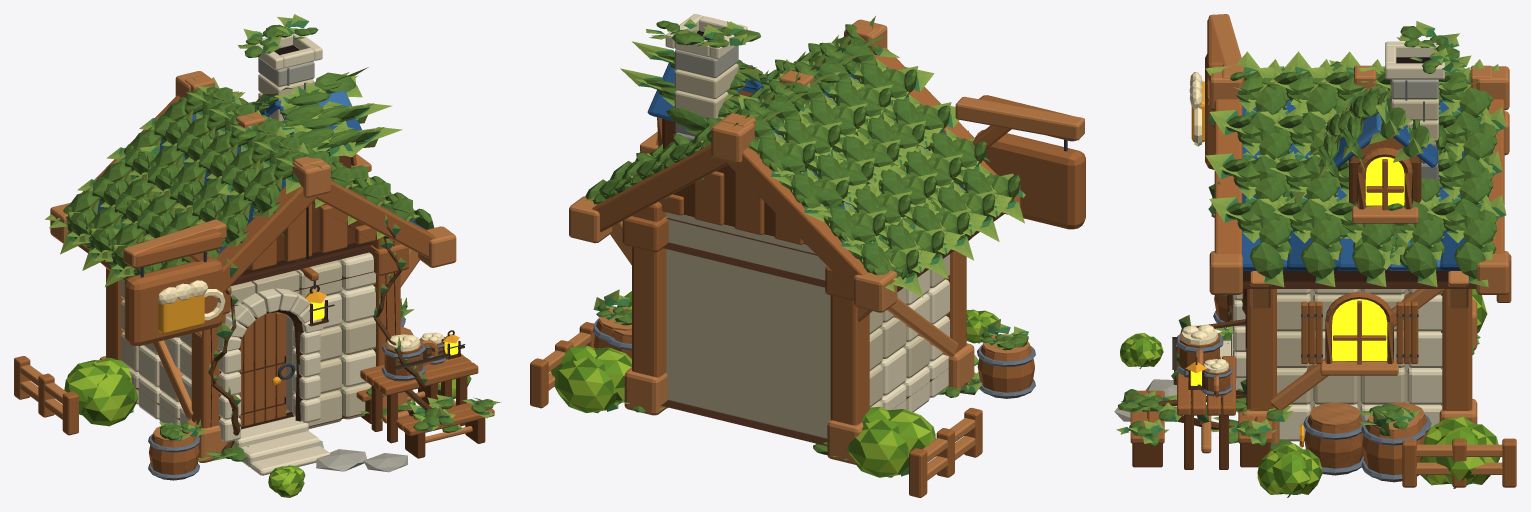
File: tavern.glb
3 renders of one model, left to right at view 1: azimuth 30°, elevation 25°; view 2: azimuth 150°, elevation 25°; view 3: azimuth 270°, elevation 25°, orthographic. The views are drawn at different scales.
Parts seen in each view (by area): view 1: Runtime surface 010, Runtime surface 006, Runtime surface 000, Runtime surface 005, Runtime surface 017, Runtime surface 009, Runtime surface 025, Runtime surface 012, Runtime surface 011, Runtime surface 037, Runtime surface 015, Runtime surface 032 (+12 smaller); view 2: Runtime surface 010, Runtime surface 017, Runtime surface 006, Runtime surface 005, Runtime surface 009, Runtime surface 025, Runtime surface 000, Runtime surface 032, Runtime surface 031, Runtime surface 012, Runtime surface 038, Runtime surface 008 (+7 smaller); view 3: Runtime surface 010, Runtime surface 006, Runtime surface 005, Runtime surface 009, Runtime surface 000, Runtime surface 017, Runtime surface 021, Runtime surface 011, Runtime surface 012, Runtime surface 003, Runtime surface 032, Runtime surface 008 (+17 smaller).
Part boxes in pixels (x1,y1,x2,y2): Runtime surface 010: (63,72,495,440); Runtime surface 006: (14,95,494,480); Runtime surface 000: (138,33,375,475); Runtime surface 005: (20,71,472,462); Runtime surface 017: (120,74,375,428); Runtime surface 009: (45,67,501,490); Runtime surface 025: (124,258,222,346); Runtime surface 012: (78,157,460,429); Runtime surface 011: (247,155,485,458); Runtime surface 037: (105,14,449,461); Runtime surface 015: (258,58,407,472); Runtime surface 032: (65,360,455,497); Runtime surface 010: (585,24,1028,350); Runtime surface 017: (666,63,949,438); Runtime surface 006: (530,47,1034,497); Runtime surface 005: (543,19,1084,480); Runtime surface 009: (584,16,1028,477); Runtime surface 025: (976,129,1085,229); Runtime surface 000: (665,14,949,412); Runtime surface 032: (551,305,998,477); Runtime surface 031: (557,291,999,477); Runtime surface 012: (660,118,1005,445); Runtime surface 038: (633,20,961,454); Runtime surface 008: (594,41,1028,477); Runtime surface 010: (1118,71,1497,445); Runtime surface 006: (1130,99,1516,487); Runtime surface 005: (1147,14,1509,474); Runtime surface 009: (1116,51,1506,496); Runtime surface 000: (1220,41,1444,441); Runtime surface 017: (1277,97,1442,411); Runtime surface 021: (1190,157,1404,385); Runtime surface 011: (1132,149,1421,469); Runtime surface 012: (1188,157,1476,405); Runtime surface 003: (1179,333,1428,475); Runtime surface 032: (1120,296,1498,494); Runtime surface 008: (1123,66,1505,497).
Bounding box in the file's own units: 4.59 × 4.03 × 3.73.
Materials: 32 (10 with a texture image).
